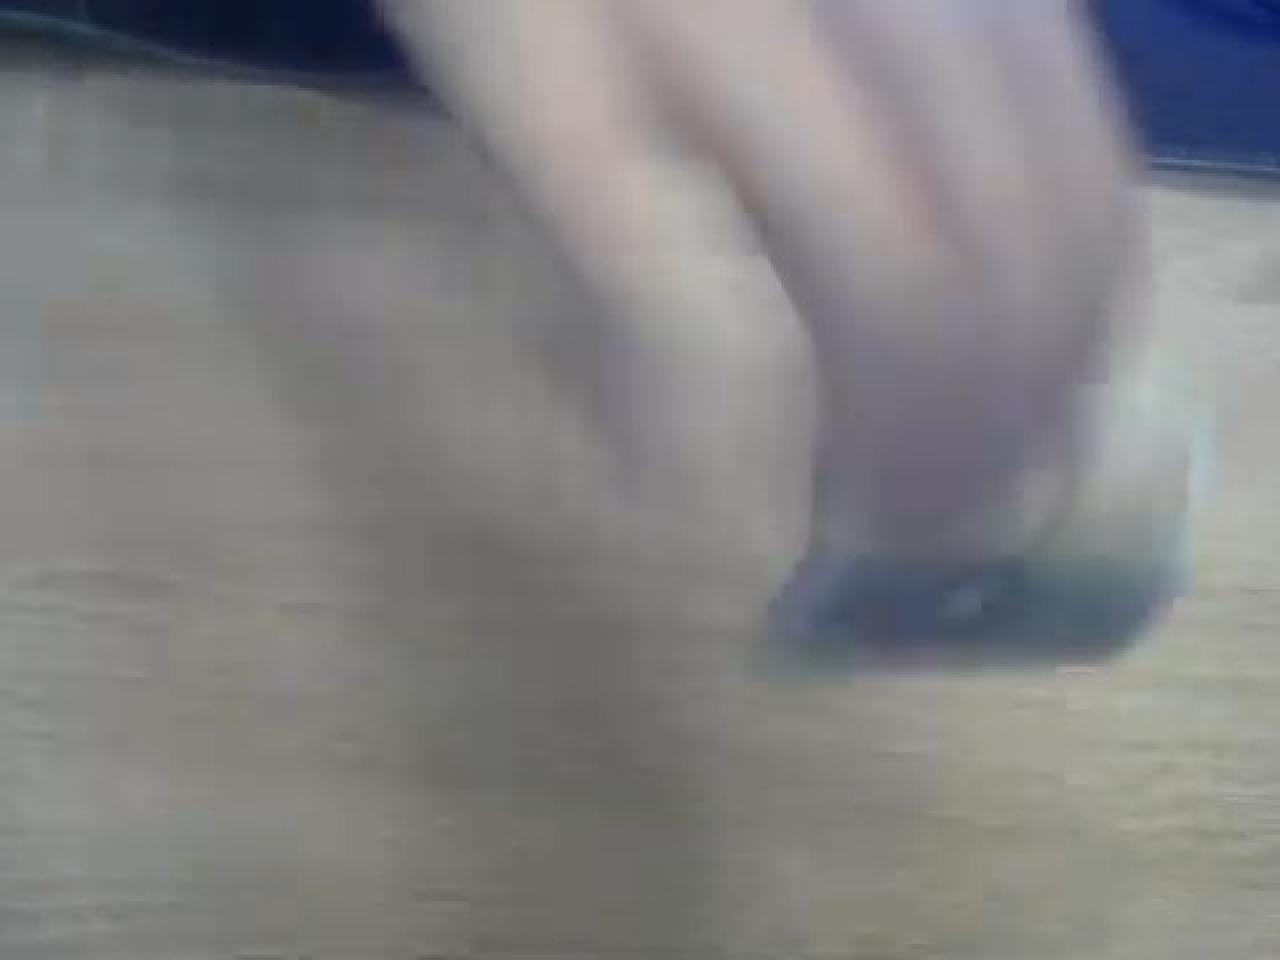10leva: (355, 0, 1200, 672)
